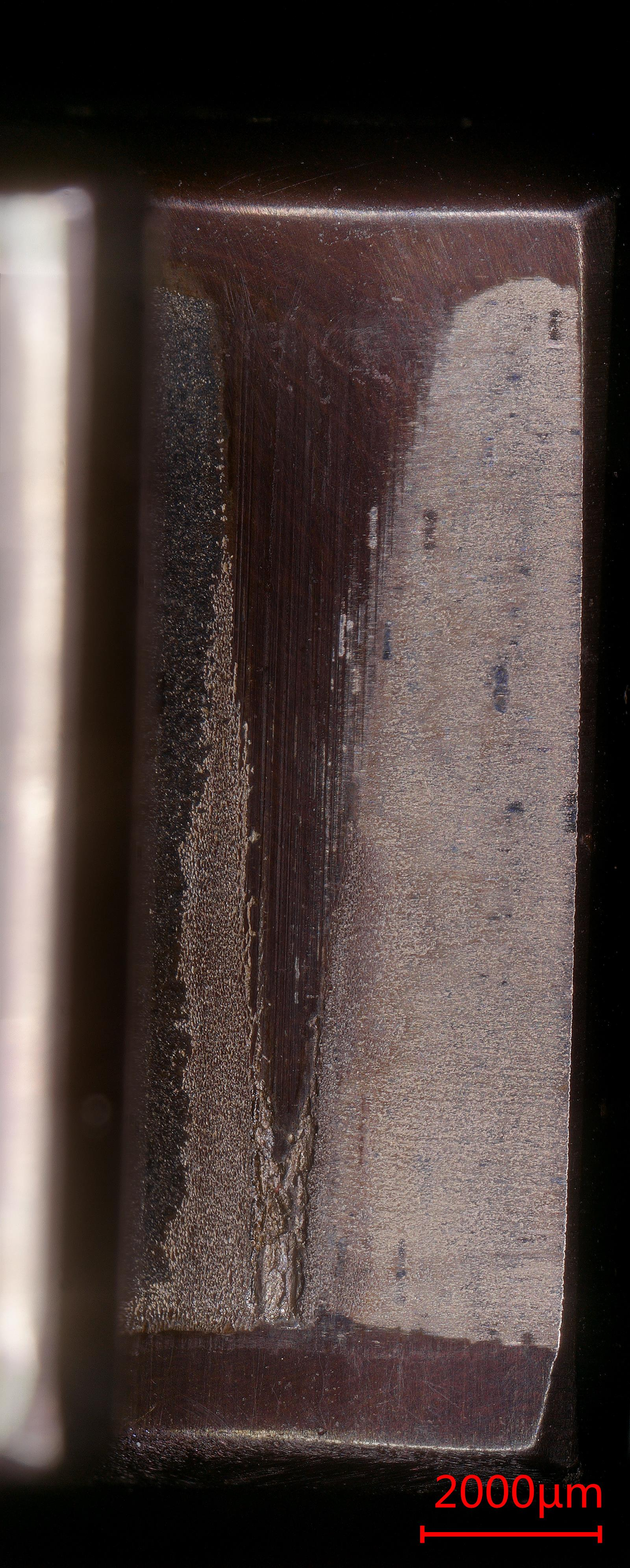Abrasion: (155, 211, 554, 1456)
